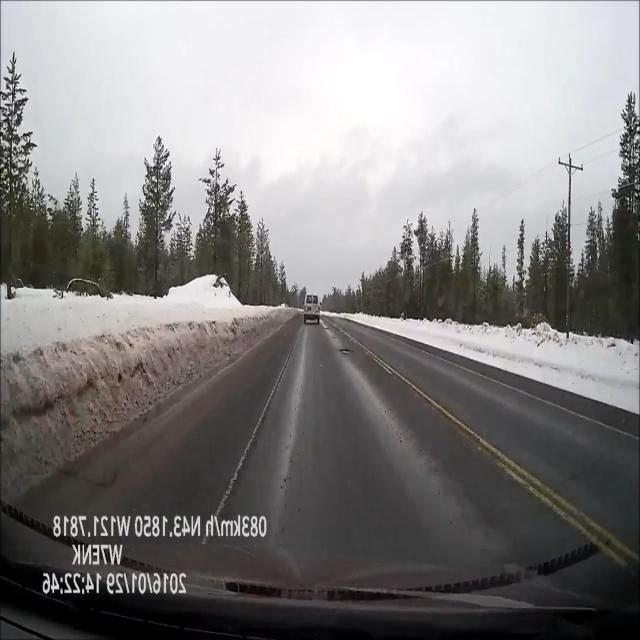pothole: (333, 331, 358, 362)
